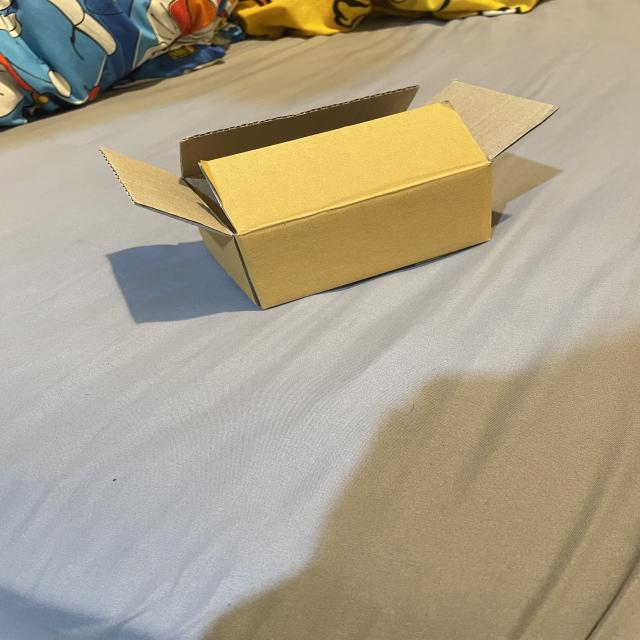box: (99, 78, 559, 312)
opened: (100, 79, 559, 236)
